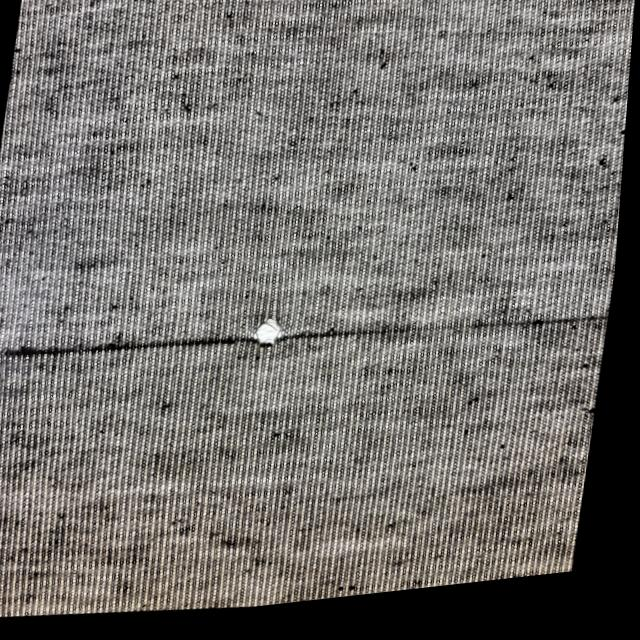Hole: (214, 247, 262, 318)
